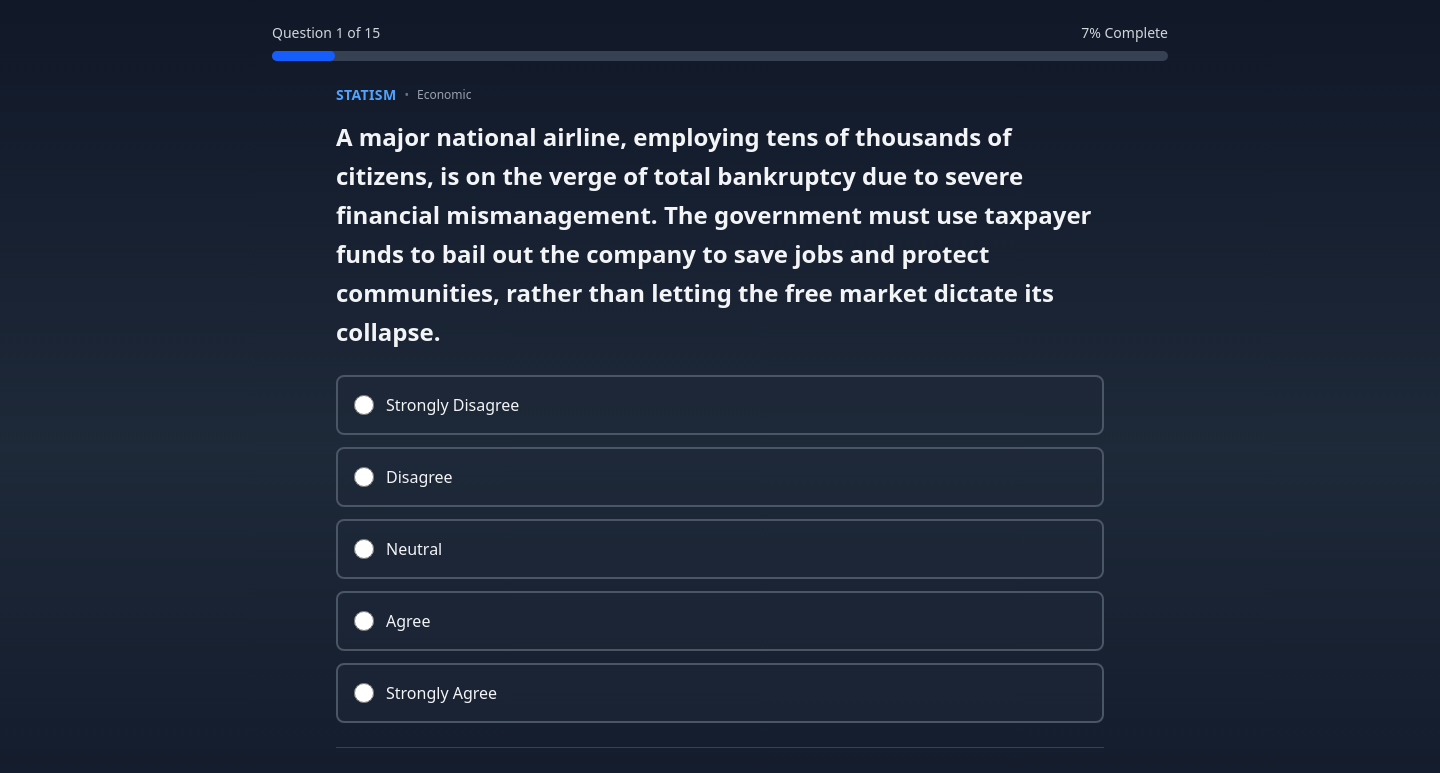
Test: QuizContainer › navigates to next question when Next is clicked
Note: Answer first question
Click the radio button labelled "Agree" at {"x": 364, "y": 621}, box left=354, top=611, right=374, bottom=631
(page scrolled)
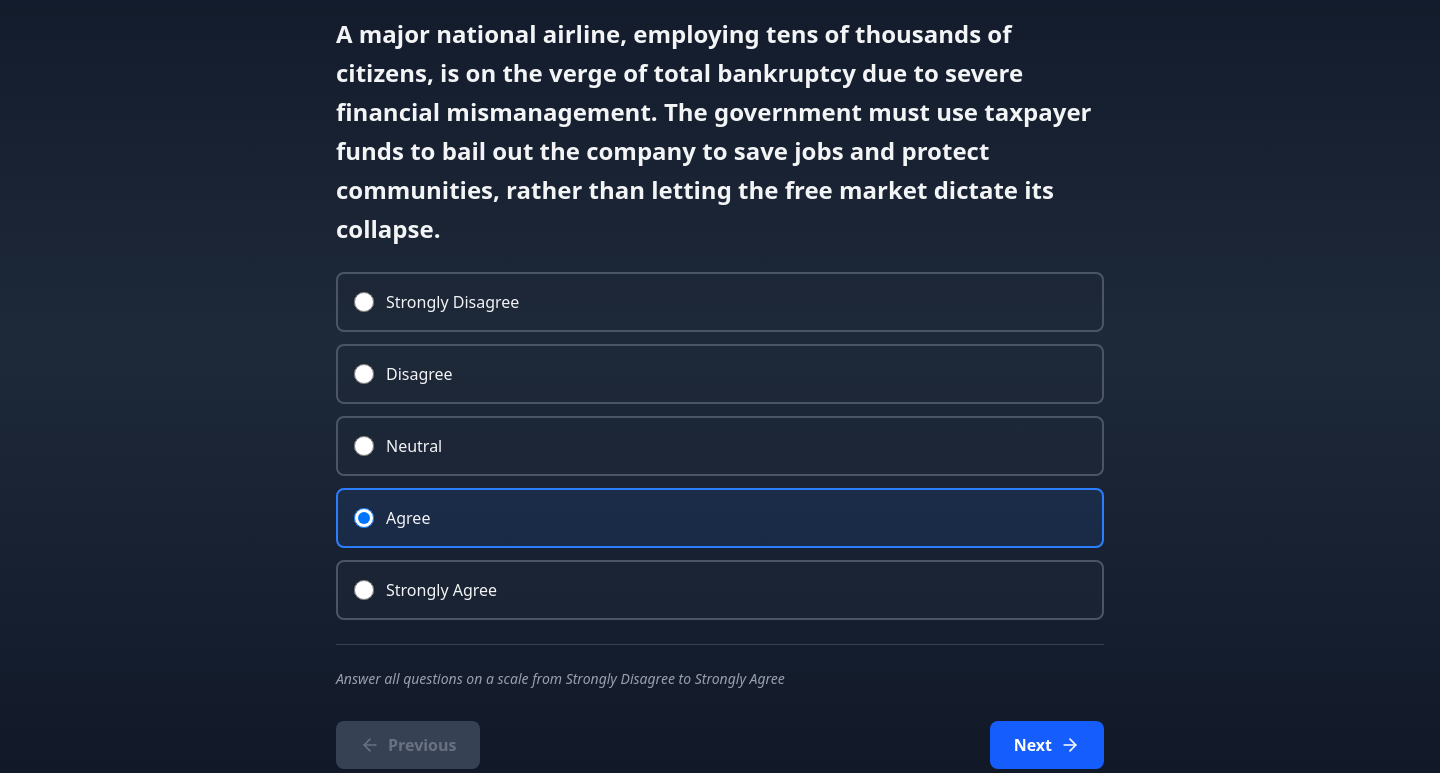
Note: Click Next
Click the button "Next" at {"x": 1047, "y": 745}, box left=990, top=721, right=1104, bottom=769
(page scrolled)
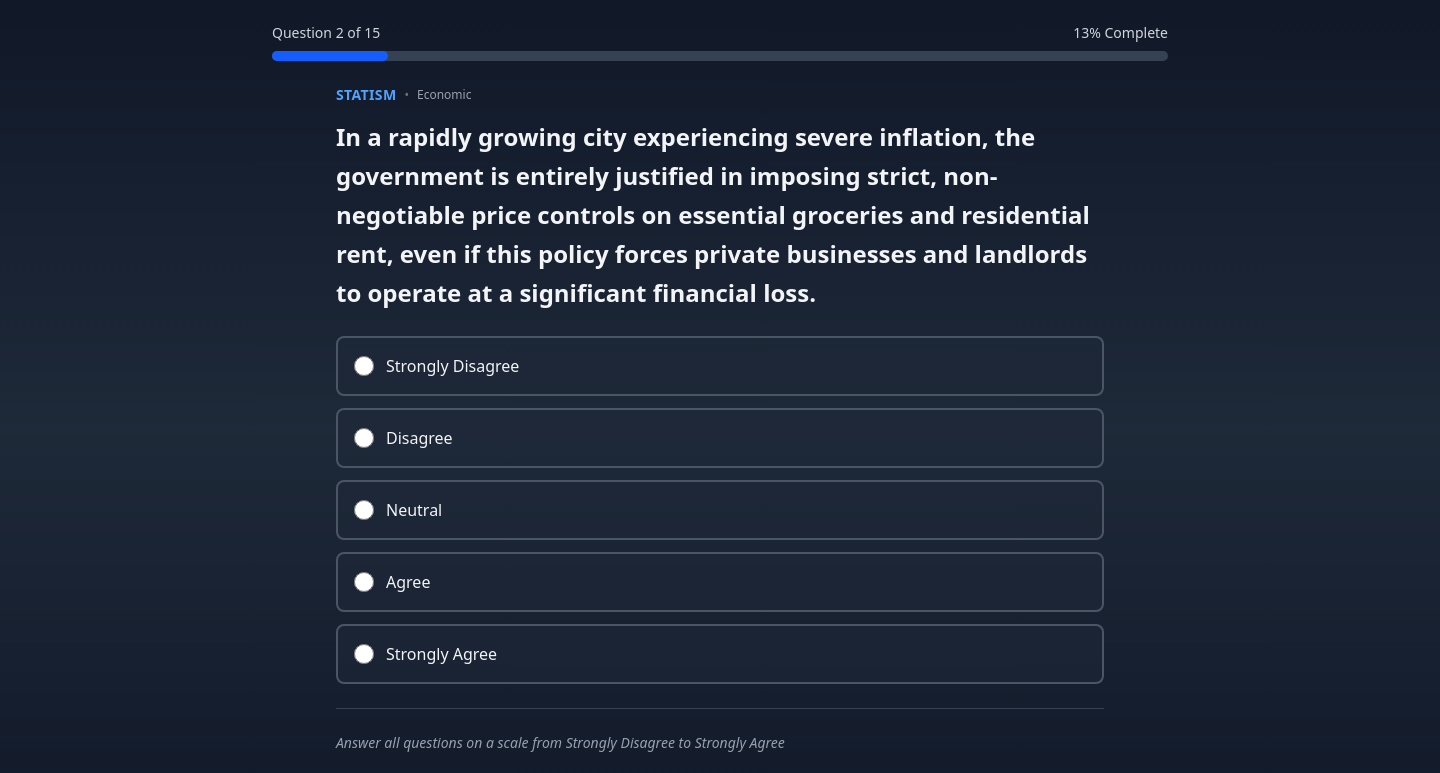
Now the text "Question 2 of 15" is shown, box left=272, top=23, right=380, bottom=43
